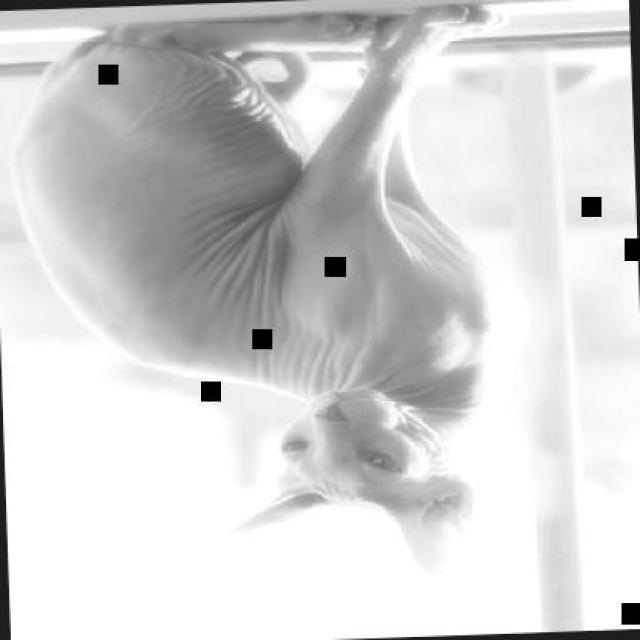cat: (1, 0, 532, 588)
